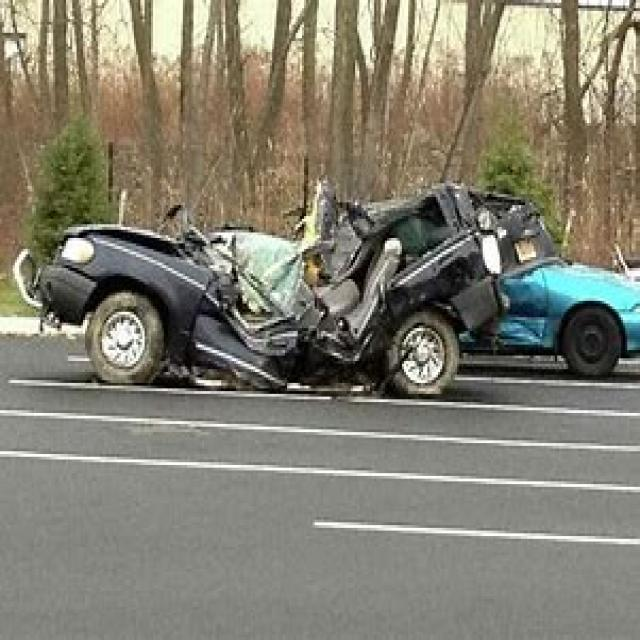Accident: (43, 128, 530, 406)
